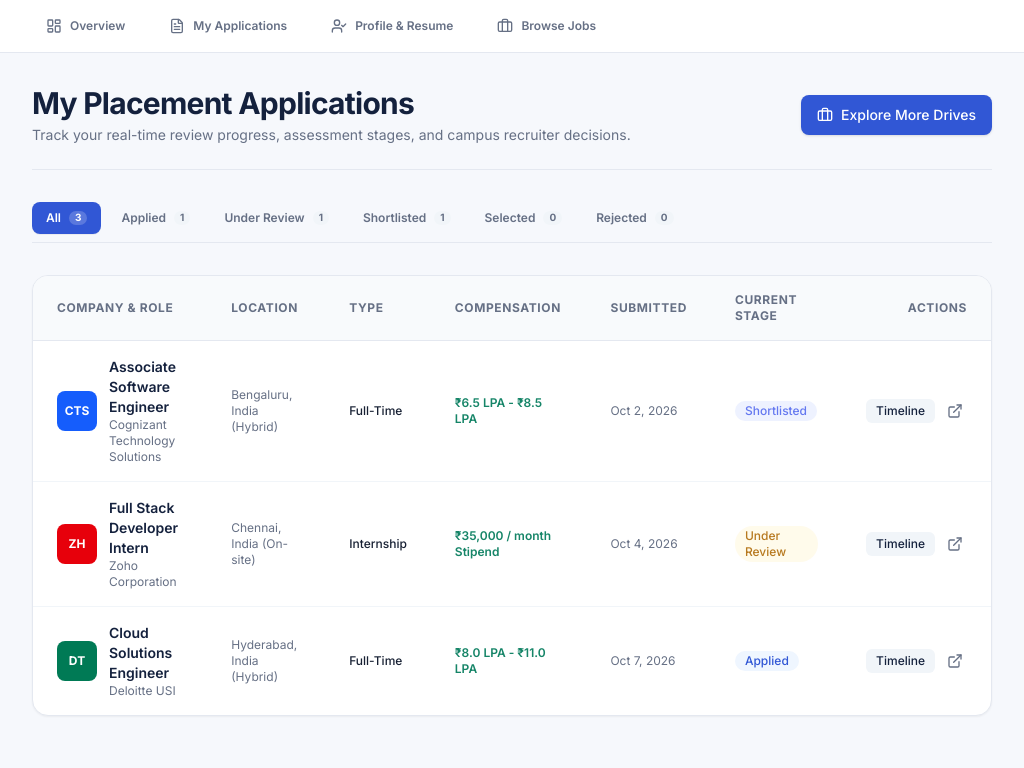
Scenario: MyApplications Component Tests › filters applications by status tabs
This screenshot has width=1024, height=768.
Click the button "Shortlisted 1".
click(407, 218)  # box [349, 202, 465, 234]
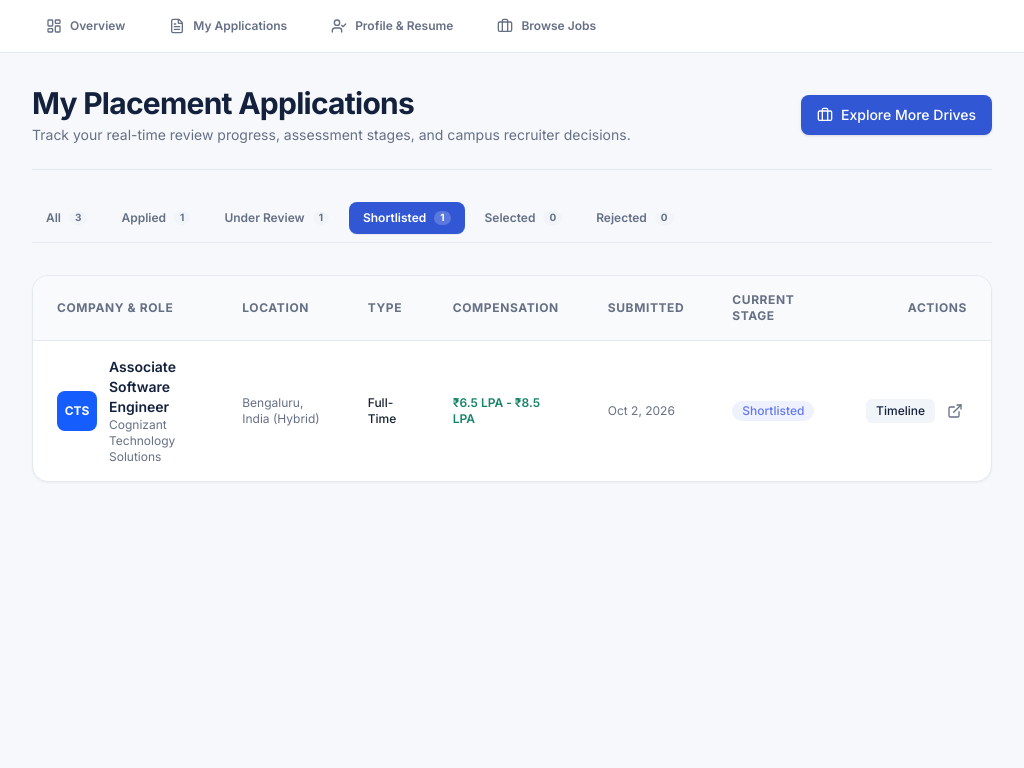
Expected: the text "Associate Software Engineer" is shown, [109, 358, 176, 415]
Expected: the text "Full Stack Developer Intern" is gone
